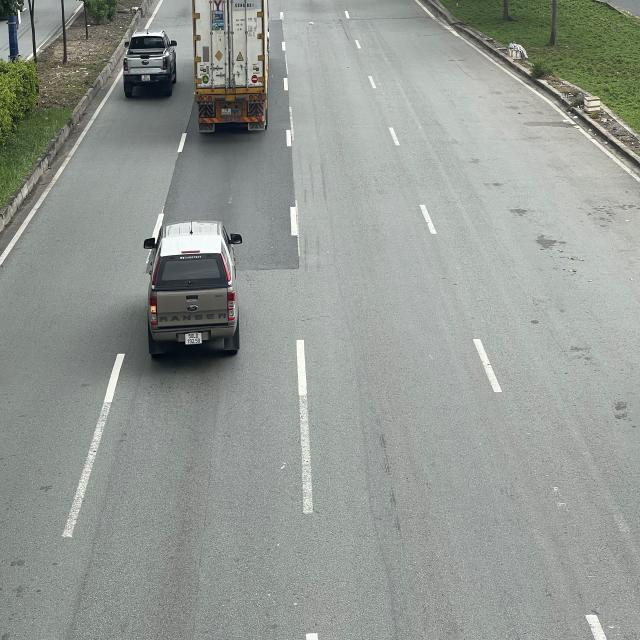car: (143, 222, 244, 358), (122, 28, 177, 95)
truck: (194, 0, 272, 131)
